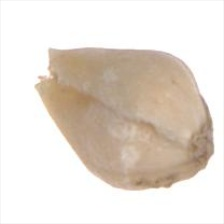L1: (32, 47, 62, 89), (189, 123, 215, 170)
L2: (34, 46, 215, 192)
